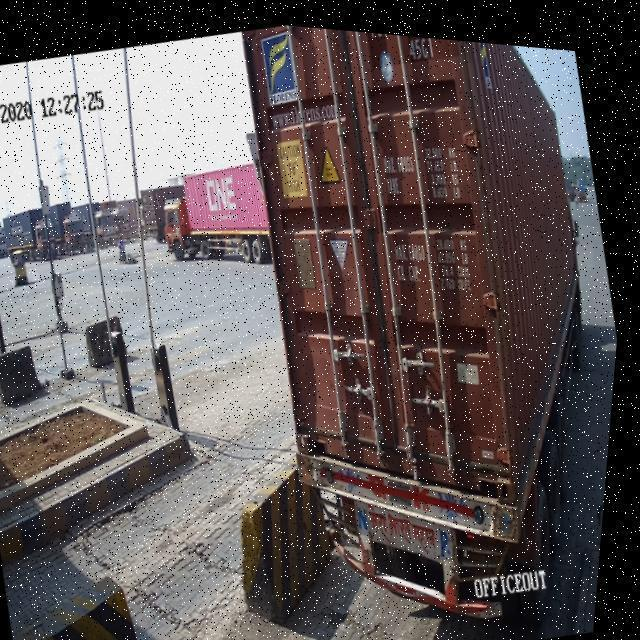container_number_h: (362, 25, 461, 67)
